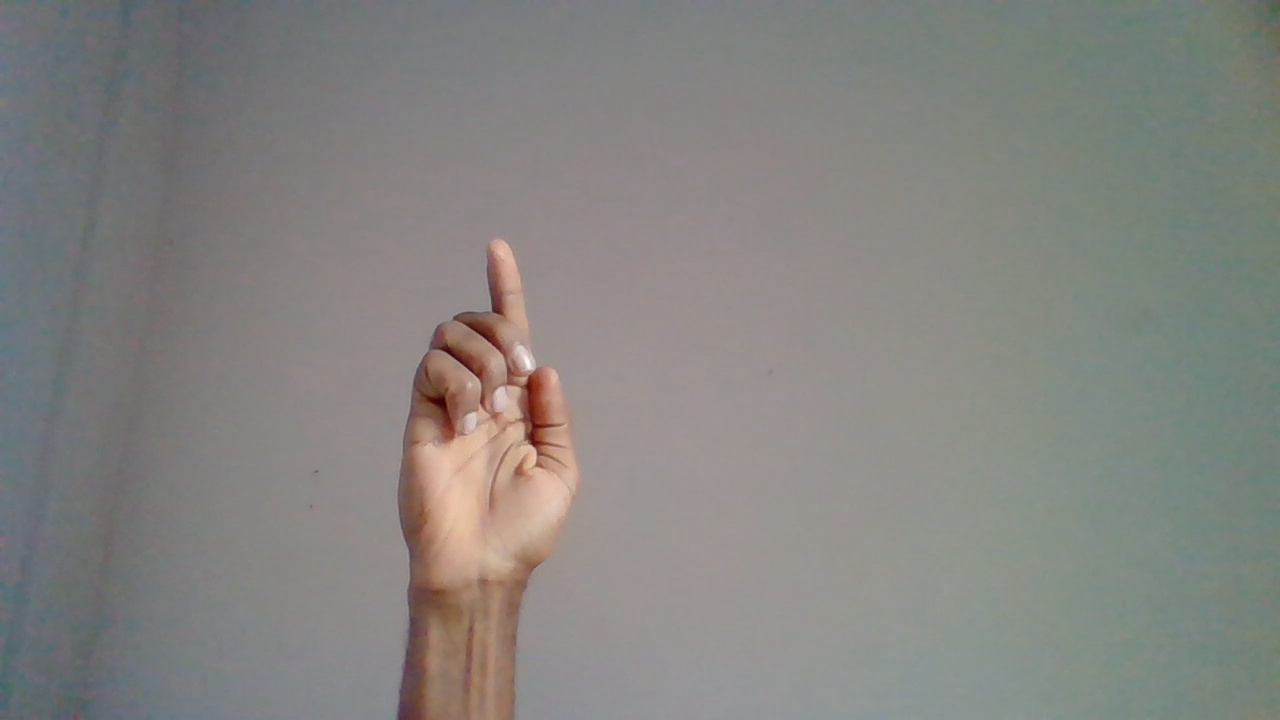qe: (398, 240, 573, 620)
